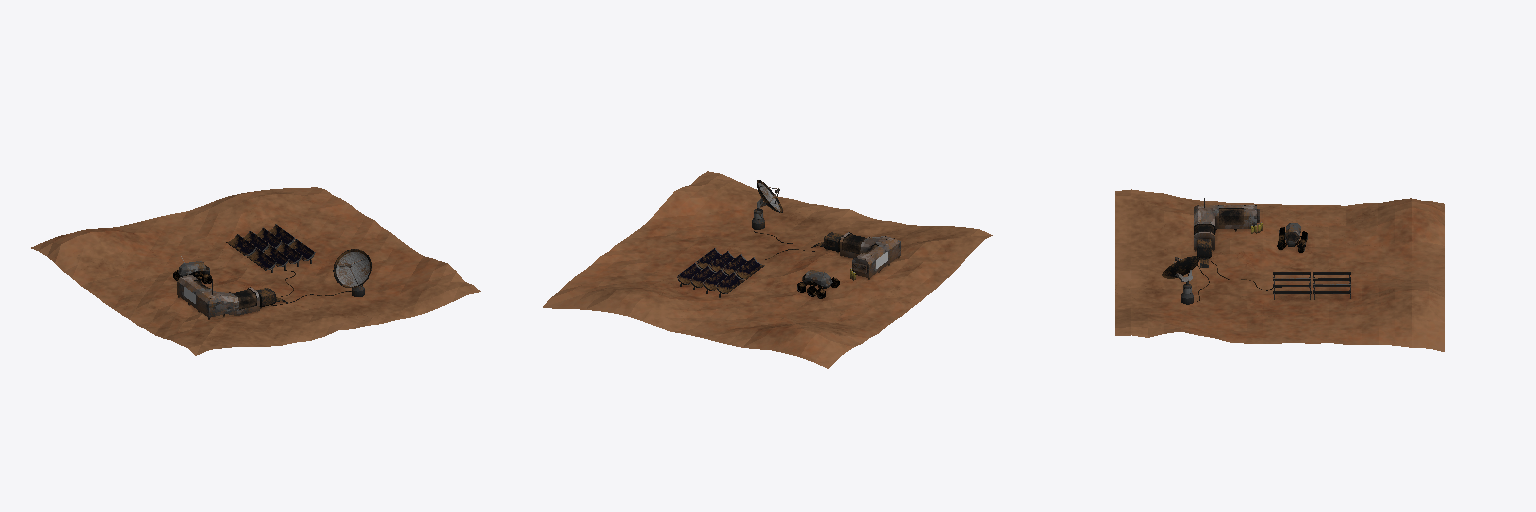
The picture shows the model from 3 angles: view 1: azimuth 30°, elevation 25°; view 2: azimuth 150°, elevation 25°; view 3: azimuth 270°, elevation 25°; orthographic projection.
Visible parts, largest first — view 1: Ground_Plane, polySurface1 Main_Base_Structure, Dish_All_Grp Dish_Grp pSphere5; view 2: Ground_Plane, polySurface1 Main_Base_Structure; view 3: Ground_Plane, polySurface1 Main_Base_Structure, polySurface2.
Boxes of the visible parts, x1=… form: Ground_Plane: x1=31, y1=187, x2=480, y2=355; polySurface1 Main_Base_Structure: x1=177, y1=275, x2=259, y2=317; Dish_All_Grp Dish_Grp pSphere5: x1=333, y1=249, x2=371, y2=288; Ground_Plane: x1=543, y1=171, x2=992, y2=368; polySurface1 Main_Base_Structure: x1=840, y1=232, x2=900, y2=277; Ground_Plane: x1=1115, y1=189, x2=1444, y2=351; polySurface1 Main_Base_Structure: x1=1194, y1=205, x2=1259, y2=249; polySurface2: x1=1195, y1=209, x2=1298, y2=241.
Bounding box in the file's own units: 33.13 × 5.85 × 33.12.
Materials: 4 (3 with a texture image).